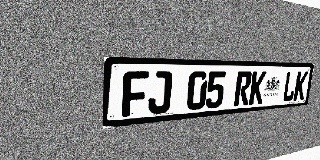0: (186, 71, 208, 111)
5: (205, 71, 226, 109)
F: (122, 71, 149, 117)
J: (147, 71, 172, 115)
K: (248, 71, 266, 105), (293, 71, 308, 101)
L: (282, 71, 298, 102)
R: (233, 71, 252, 106)
